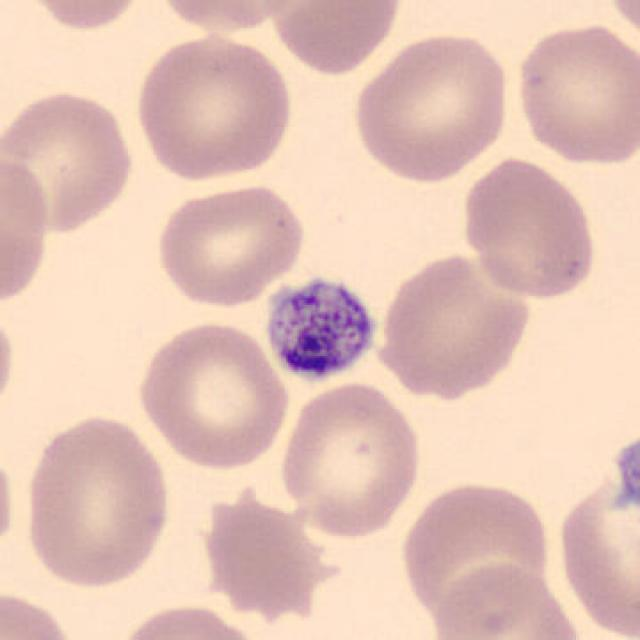Platelets: (262, 272, 381, 386), (608, 430, 640, 515)
RBC: (20, 409, 176, 592), (348, 27, 514, 185), (130, 30, 297, 183), (134, 316, 292, 472), (275, 378, 425, 542), (373, 249, 535, 400), (396, 476, 556, 628), (459, 154, 601, 302), (151, 178, 309, 309), (0, 85, 137, 236), (510, 18, 638, 169), (553, 432, 640, 640), (199, 481, 327, 619), (427, 557, 585, 640), (265, 0, 405, 78), (0, 148, 53, 312), (110, 599, 267, 640), (149, 0, 321, 35), (12, 0, 151, 33), (0, 585, 82, 640), (0, 436, 20, 570), (0, 299, 20, 426), (601, 0, 640, 49)
